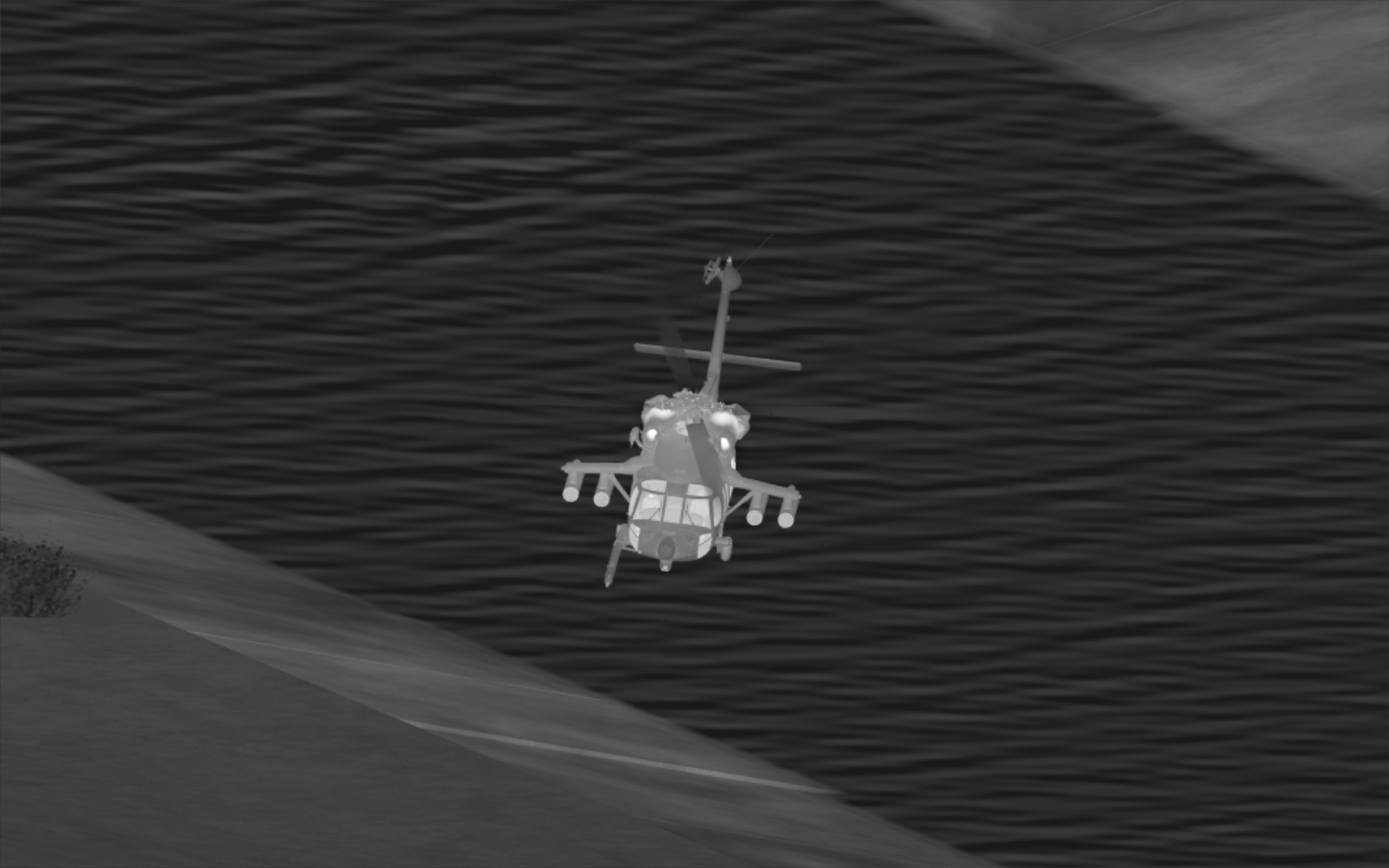ah/uh60: (557, 257, 804, 590)
